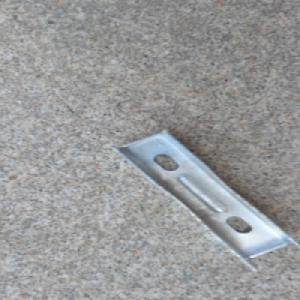ClampPart: (107, 127, 300, 272)
